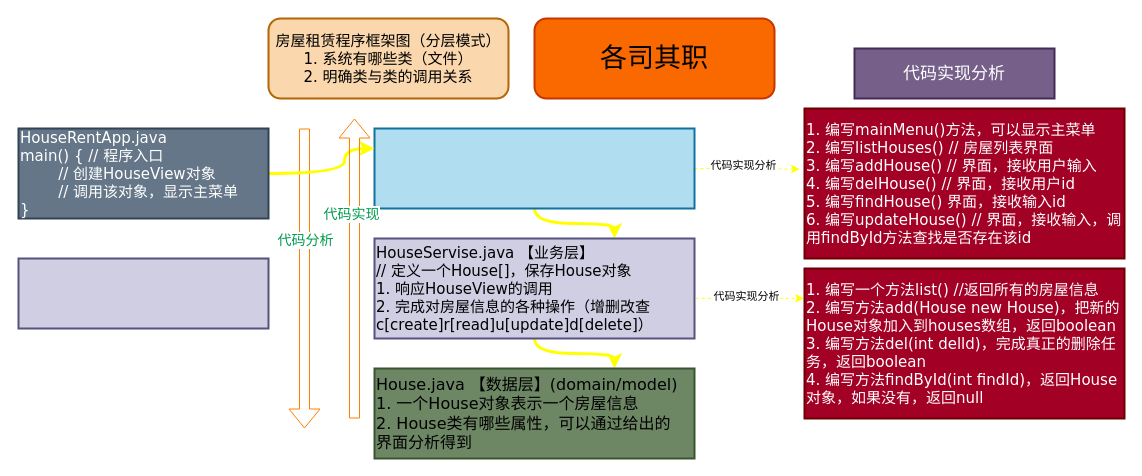
Image size: 1142x476. Some labels were removed from this diagram. Each missing label, with the centre of its shape:
HouseView.java 【界面层】 1. 显示界面 2. 接收用户的输入 3. 调用其他类完成对房屋信息的各种操作: the point at 534,168
工具类-Utility.java 完成获取用户各种输入: the point at 143,293
